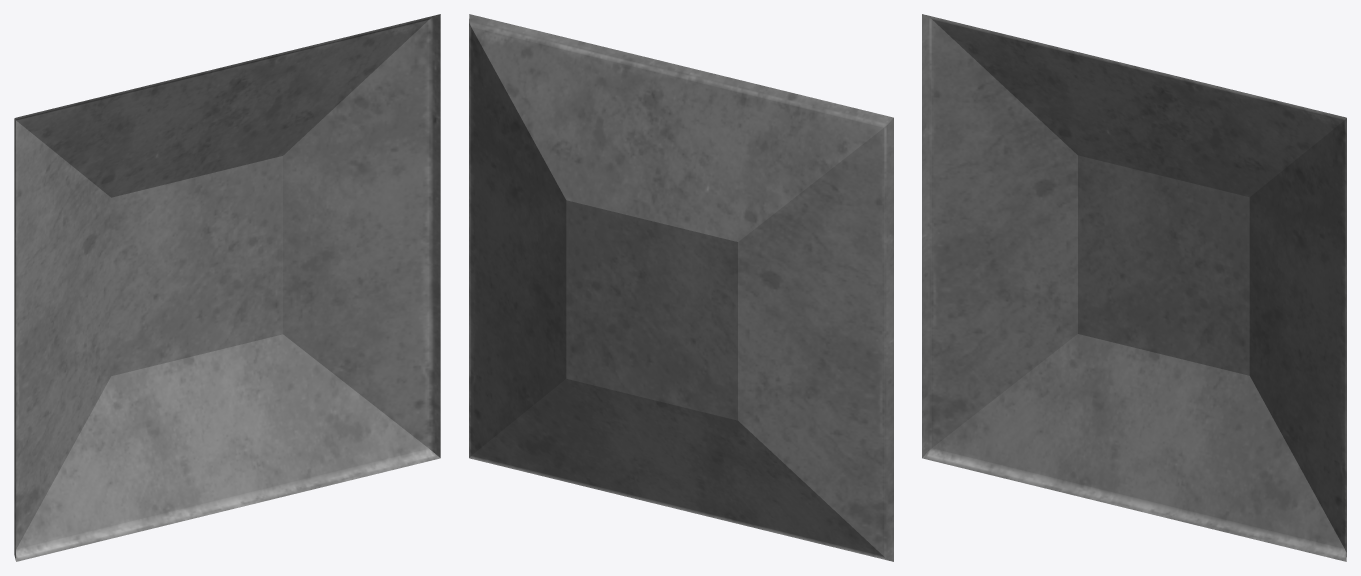
Rendered from SM_Wall_05.fbx.
3 renders of one model, left to right at view 1: azimuth 30°, elevation 25°; view 2: azimuth 150°, elevation 25°; view 3: azimuth 330°, elevation 25°, orthographic.
Visible parts, largest first — view 1: SM_Wall_05; view 2: SM_Wall_05; view 3: SM_Wall_05.
Boxes of the visible parts, x1,y1,x2,y2 form: SM_Wall_05: (14,14,440,561); SM_Wall_05: (469,14,893,561); SM_Wall_05: (922,14,1346,561).
Size of the model in its own units: 100 by 100 by 12.38.
